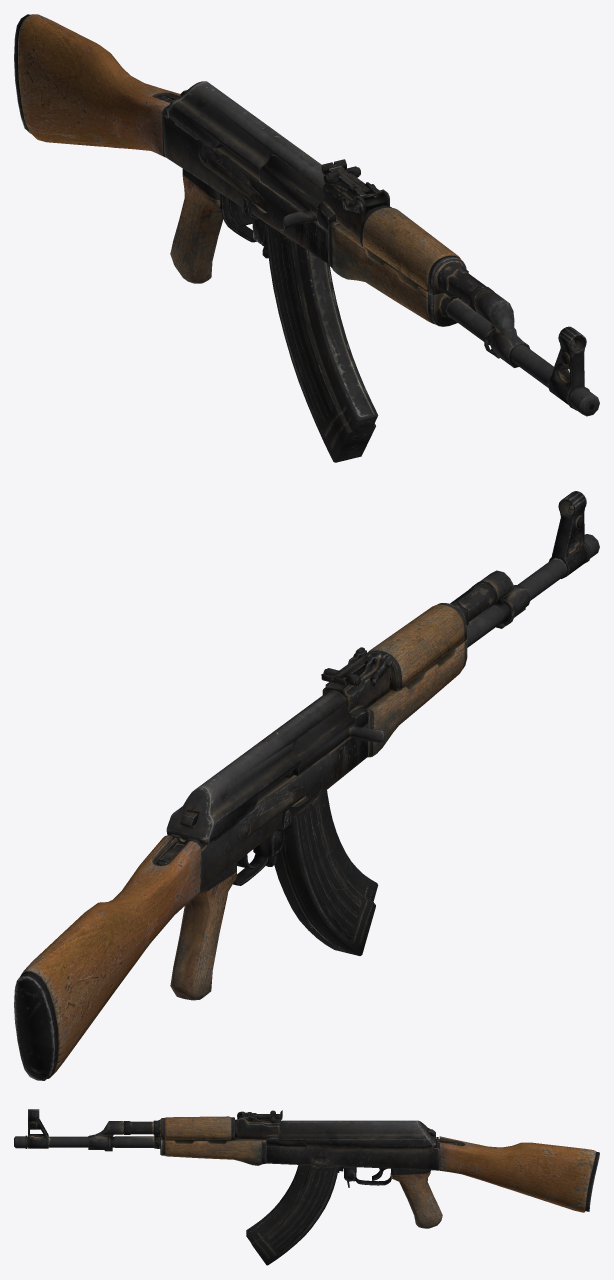
3 views of the same model, one above another, from view 1: azimuth 30°, elevation 25°; view 2: azimuth 150°, elevation 25°; view 3: azimuth 270°, elevation 25° (orthographic). The views are drawn at different scales.
Visible parts, largest first — view 1: AK47.001; view 2: AK47.001; view 3: AK47.001.
Part boxes in pixels (x1=…): AK47.001: x1=14, y1=14, x2=599, y2=462; AK47.001: x1=14, y1=491, x2=599, y2=1080; AK47.001: x1=14, y1=1109, x2=599, y2=1265.
Bounding box in the file's own units: 18.18 × 71.15 × 248.
Materials: 1 (1 with a texture image).
